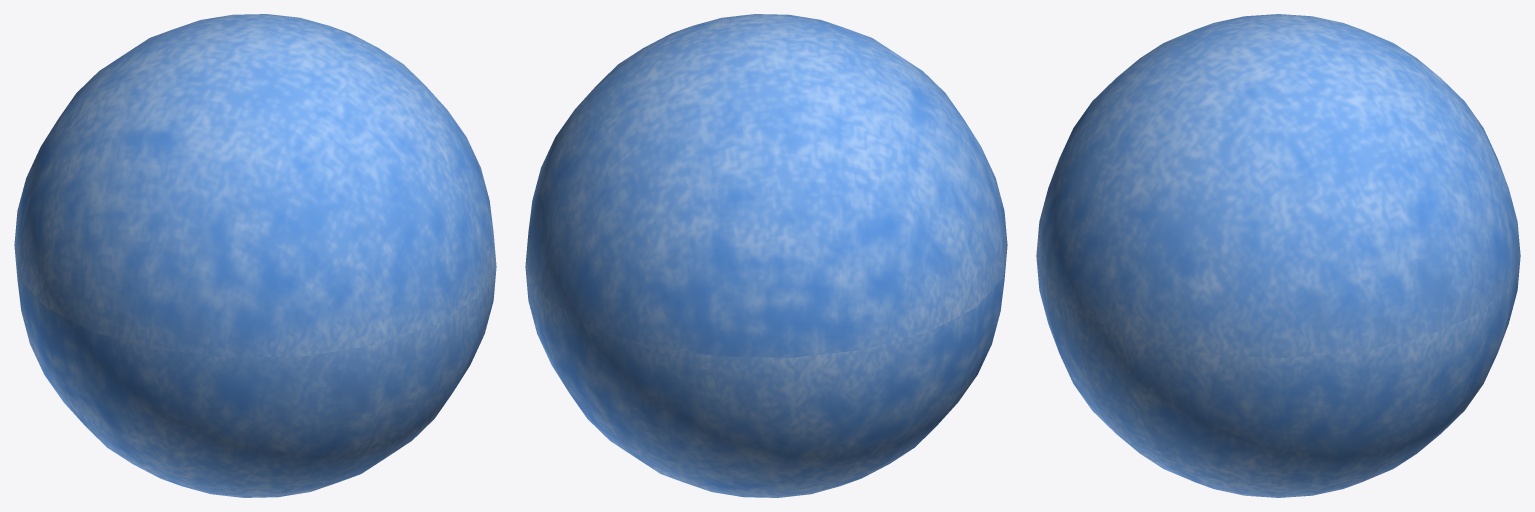
Rendered from Roller_Prototype_OuterShell1B.fbx.
The picture shows the model from 3 angles, left to right: view 1: azimuth 30°, elevation 25°; view 2: azimuth 150°, elevation 25°; view 3: azimuth 270°, elevation 25°; orthographic projection.
Visible parts, largest first — view 1: RollerBall_OuterShell_NoisyBlue; view 2: RollerBall_OuterShell_NoisyBlue; view 3: RollerBall_OuterShell_NoisyBlue.
Part boxes in pixels (box(x1,y1,x2,y2)): RollerBall_OuterShell_NoisyBlue: box(14, 14, 496, 497); RollerBall_OuterShell_NoisyBlue: box(525, 14, 1007, 497); RollerBall_OuterShell_NoisyBlue: box(1036, 14, 1520, 497).
Bounding box in the file's own units: 3 × 3 × 3.
